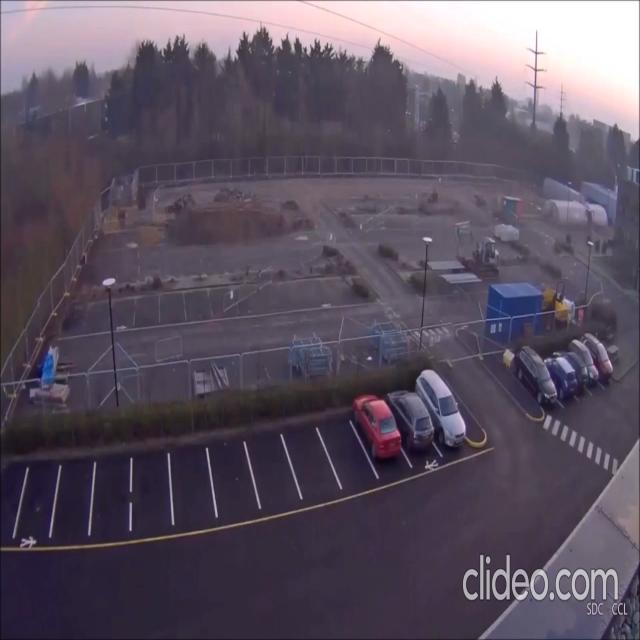empty: (318, 418, 380, 497), (246, 435, 307, 514), (283, 427, 343, 505), (205, 443, 262, 514), (130, 452, 173, 528), (49, 464, 95, 533), (173, 451, 219, 520), (17, 466, 62, 534), (88, 459, 129, 533)
